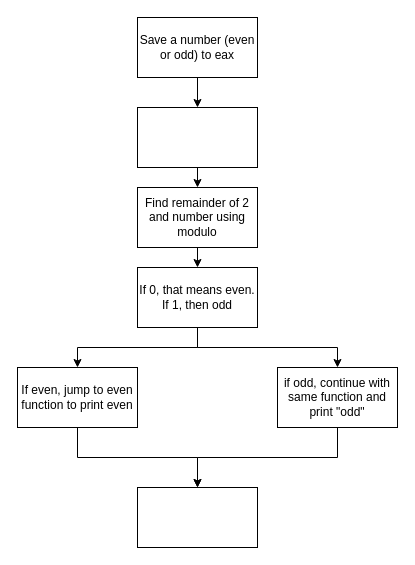
Image size: 415x565. Some labels were removed from this diagram. Here are the shapes that lost their labels. From the top down, the box of each, then its label:
(136, 106, 258, 168): Call function on it
(136, 486, 258, 548): exit program
